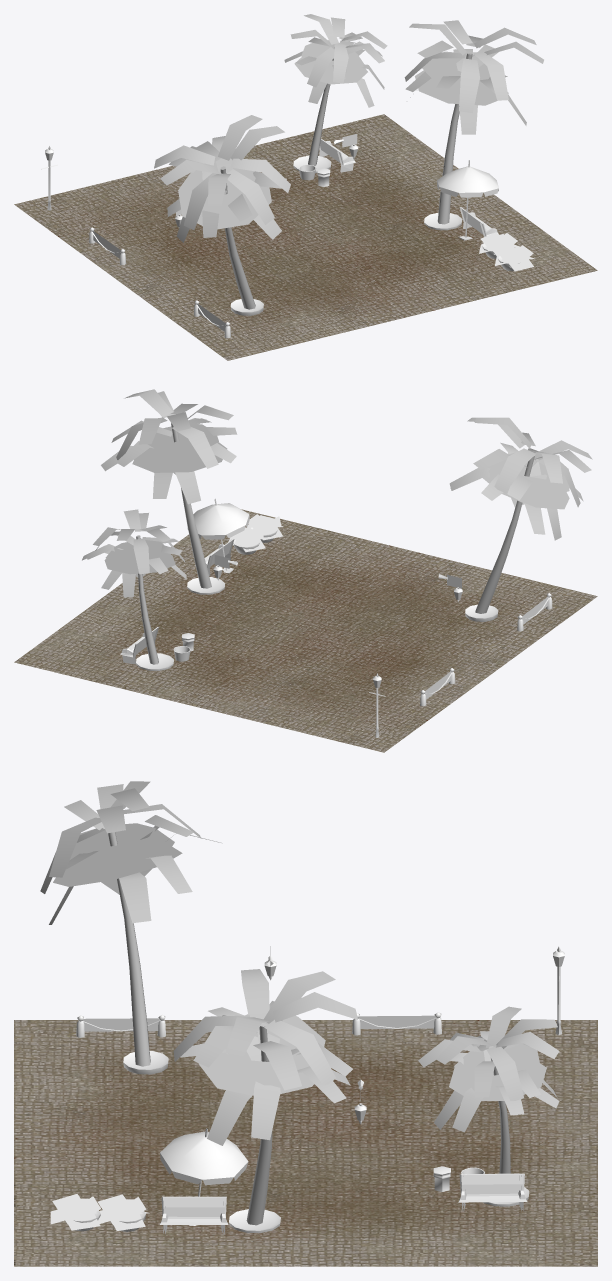
The model's file is propsonly_2c.gltf.
The picture shows the model from 3 angles, top to bottom: view 1: azimuth 30°, elevation 25°; view 2: azimuth 150°, elevation 25°; view 3: azimuth 270°, elevation 25°; orthographic projection. The views are drawn at different scales.
Visible parts, largest first — view 1: ground.017, prop_tree1.012, prop_tree1.011, prop_tree1.013, prop_sunshade1.014, prop_pot_flower1.012, prop_bench1.015, prop_pot_flower1.011, prop_bench1.017; view 2: ground.017, prop_tree1.011, prop_tree1.012, prop_tree1.013, prop_sunshade1.014, prop_pot_flower1.012, prop_pot_flower1.011; view 3: ground.017, prop_tree1.011, prop_tree1.012, prop_tree1.013, prop_sunshade1.014, prop_bench1.015, prop_bench1.017, prop_pot_flower1.012, prop_chain_fence1.021, prop_pot_flower1.011, prop_chain_fence1.019, prop_pot1.023 (+1 smaller).
Part boxes in pixels (left/top/right/bottom): ground.017: left=14, top=114, right=597, bottom=360; prop_tree1.012: left=154, top=115, right=290, bottom=309; prop_tree1.011: left=404, top=20, right=543, bottom=224; prop_tree1.013: left=284, top=14, right=387, bottom=165; prop_sunshade1.014: left=437, top=160, right=498, bottom=240; prop_pot_flower1.012: left=495, top=244, right=534, bottom=271; prop_bench1.015: left=319, top=138, right=355, bottom=172; prop_pot_flower1.011: left=479, top=232, right=518, bottom=257; prop_bench1.017: left=459, top=207, right=498, bottom=243; ground.017: left=14, top=509, right=597, bottom=752; prop_tree1.011: left=101, top=389, right=237, bottom=588; prop_tree1.012: left=449, top=417, right=592, bottom=613; prop_tree1.013: left=82, top=509, right=186, bottom=664; prop_sunshade1.014: left=187, top=498, right=249, bottom=573; prop_pot_flower1.012: left=247, top=514, right=283, bottom=540; prop_pot_flower1.011: left=228, top=527, right=265, bottom=552; ground.017: left=14, top=1020, right=597, bottom=1266; prop_tree1.011: left=173, top=969, right=357, bottom=1225; prop_tree1.012: left=40, top=781, right=222, bottom=1066; prop_tree1.013: left=418, top=1006, right=559, bottom=1173; prop_sunshade1.014: left=160, top=1128, right=248, bottom=1225; prop_bench1.015: left=458, top=1173, right=527, bottom=1211; prop_bench1.017: left=159, top=1196, right=228, bottom=1234; prop_pot_flower1.012: left=50, top=1194, right=100, bottom=1230; prop_chain_fence1.021: left=352, top=1012, right=441, bottom=1035; prop_pot_flower1.011: left=97, top=1194, right=149, bottom=1230; prop_chain_fence1.019: left=76, top=1014, right=165, bottom=1037; prop_pot1.023: left=229, top=1209, right=280, bottom=1233.
Size of what is drawn, in the model's own units: 3.73 by 1.73 by 3.3.
